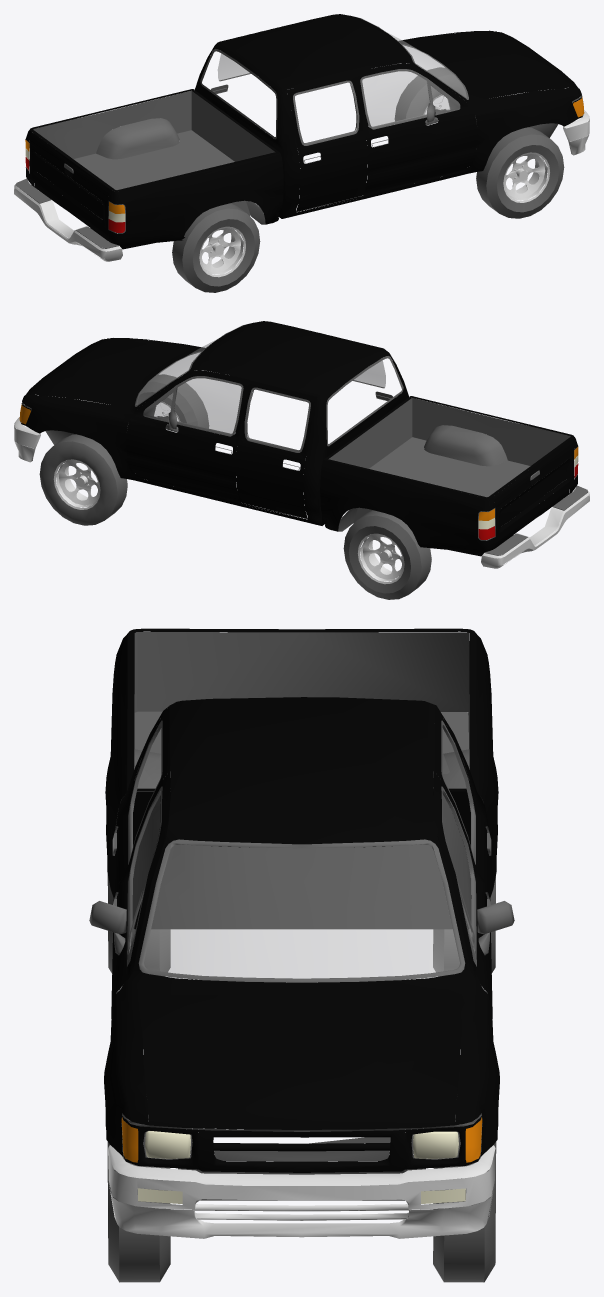
Rendered from t_hilux.glb.
3 views of the same model, one above another, from view 1: azimuth 30°, elevation 25°; view 2: azimuth 150°, elevation 25°; view 3: azimuth 270°, elevation 25° (orthographic). The views are drawn at different scales.
Visible parts, largest first — view 1: material_0_16; view 2: material_0_16; view 3: material_0_16.
Boxes of the visible parts, x1=… form: material_0_16: x1=14, y1=14, x2=589, y2=292; material_0_16: x1=14, y1=321, x2=589, y2=599; material_0_16: x1=89, y1=628, x2=514, y2=1282.
Bounding box in the file's own units: 14.33 × 4.88 × 5.3.
